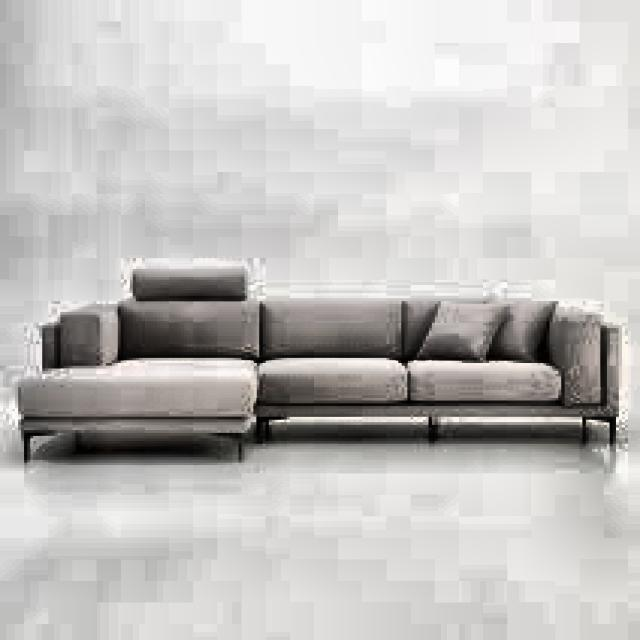sofa: (24, 269, 622, 460)
